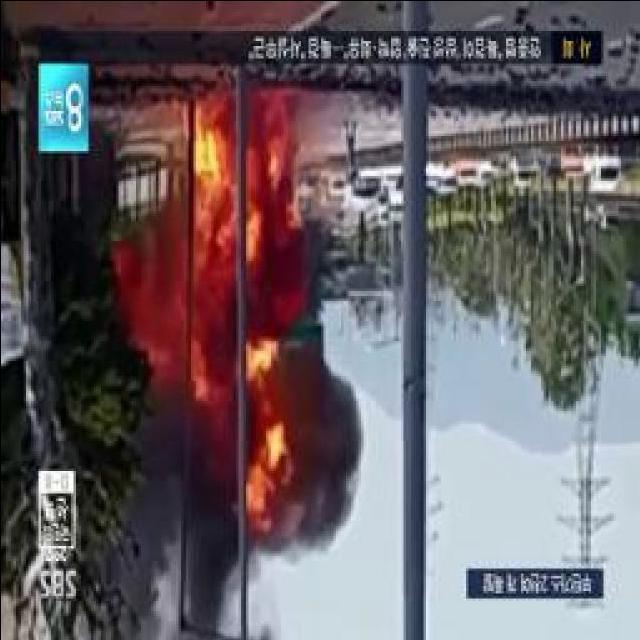Fire: (137, 96, 299, 382), (242, 396, 286, 516)
